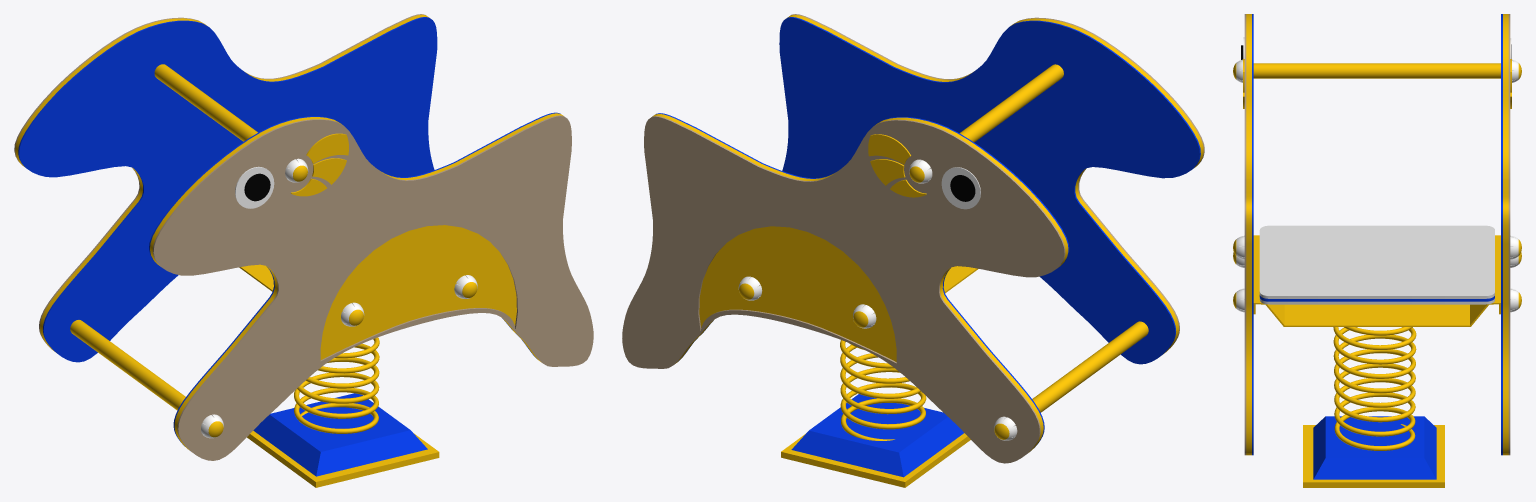
File: spring.fbx
The picture shows the model from 3 angles, left to right: view 1: azimuth 30°, elevation 25°; view 2: azimuth 150°, elevation 25°; view 3: azimuth 270°, elevation 25°; orthographic projection. The views are drawn at different scales.
Parts seen in each view (by area): view 1: Line05, Line08, Line04, Box03, Helix01, Line06, Box04, Cylinder05, Cylinder04, Donut01, Line02, DOUGHNUT06 (+3 smaller); view 2: Line07, Line02, Line06, Box03, Helix01, Line04, Cylinder05, Box04, Cylinder04, Donut02, Line08, Line05 (+1 smaller); view 3: Rectangle03, Box03, Helix01, Line01, Cylinder04, Line04, Line06, Box04, Line05, Line07, Rectangle01, Line02 (+3 smaller).
Part boxes in pixels (x1,y1,x2,y2): Line05: (153, 115, 593, 460); Line08: (18, 17, 437, 362); Line04: (150, 113, 563, 450); Box03: (253, 393, 427, 476); Helix01: (294, 337, 379, 433); Line06: (15, 14, 429, 352); Box04: (247, 430, 439, 487); Cylinder05: (70, 320, 185, 410); Cylinder04: (154, 64, 257, 141); Donut01: (291, 133, 348, 196); Line02: (149, 112, 560, 446); DOUGHNUT06: (201, 158, 477, 438); Line07: (622, 116, 1065, 463); Line02: (779, 17, 1200, 364); Line06: (652, 114, 1068, 452); Box03: (791, 394, 963, 477); Helix01: (840, 340, 926, 440); Line04: (787, 14, 1203, 353); Cylinder05: (1032, 321, 1148, 412); Box04: (781, 433, 970, 487); Cylinder04: (959, 64, 1063, 142); Donut02: (868, 134, 926, 197); Line08: (656, 113, 1069, 451); Line05: (791, 14, 1204, 351); Rectangle03: (1259, 225, 1494, 298); Box03: (1313, 416, 1436, 479); Helix01: (1333, 327, 1416, 450); Line01: (1253, 235, 1500, 326); Cylinder04: (1253, 63, 1500, 78); Line04: (1246, 14, 1251, 455); Line06: (1503, 14, 1508, 455); Box04: (1303, 425, 1444, 487); Line05: (1244, 14, 1246, 455); Line07: (1508, 14, 1510, 455); Rectangle01: (1259, 297, 1494, 304); Line02: (1252, 14, 1253, 455).
Bounding box in the file's own units: 78.35 × 68.45 × 46.74.
